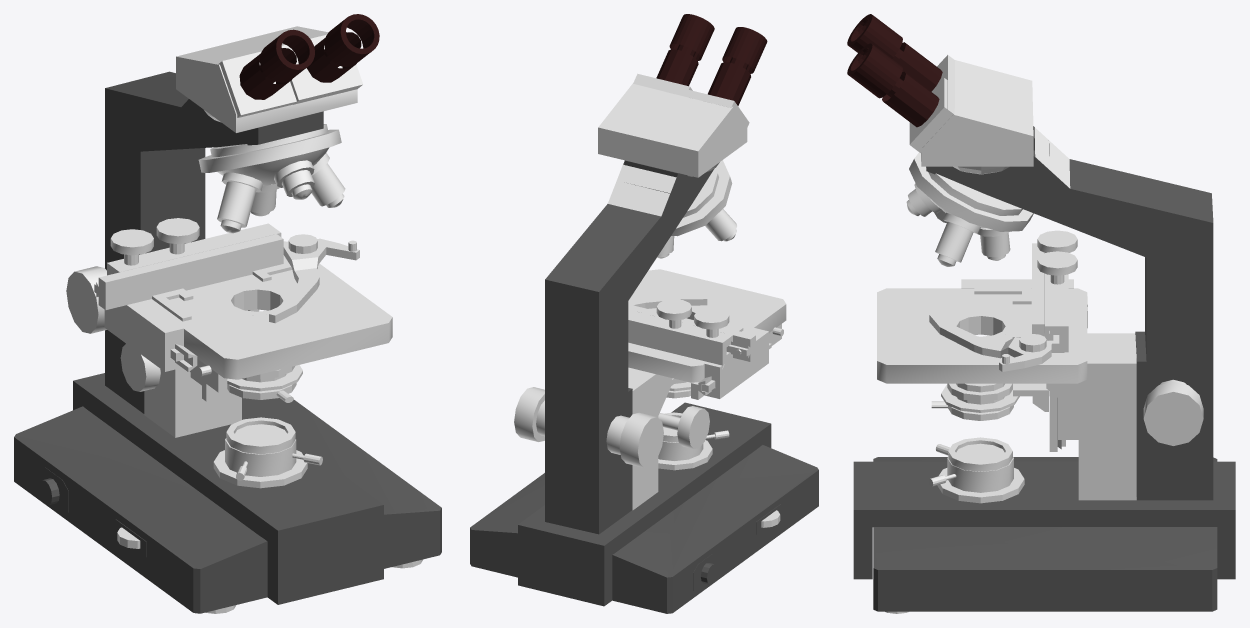
File: MICROSCOPIO.obj
3 renders of one model, left to right at view 1: azimuth 30°, elevation 25°; view 2: azimuth 150°, elevation 25°; view 3: azimuth 270°, elevation 25°, orthographic. The views are drawn at different scales.
Parts seen in each view (by area): view 1: Mesh54 mainbase1 skp77A2_1 MICROSCOPIO1 Model, Mesh55 mainbase1 skp77A2_1 MICROSCOPIO1 Model, Mesh53 lensbase1 skp77A2_1 MICROSCOPIO1 Model, Mesh78 slid_bse1 skp77A2_1 MICROSCOPIO1 Model, Mesh81 slidbs_01_1 skp77A2_1 MICROSCOPIO1 Model, Mesh52 lens_bse1 skp77A2_1 MICROSCOPIO1 Model, Mesh16 dia_bse_5_1 skp77A2_1 MICROSCOPIO1 Model, Mesh87 slidbs_8_1 skp77A2_1 MICROSCOPIO1 Model, Mesh86 slidbs_7_1 skp77A2_1 MICROSCOPIO1 Model, Mesh61 objectives1 skp77A2_1 MICROSCOPIO1 Model, Mesh80 slidbs_01_1 skp77A2_1 MICROSCOPIO1 Model, Mesh45 knobby_l06_1 skp77A2_1 MICROSCOPIO1 Model (+23 smaller); view 2: Mesh53 lensbase1 skp77A2_1 MICROSCOPIO1 Model, Mesh54 mainbase1 skp77A2_1 MICROSCOPIO1 Model, Mesh55 mainbase1 skp77A2_1 MICROSCOPIO1 Model, Mesh52 lens_bse1 skp77A2_1 MICROSCOPIO1 Model, Mesh78 slid_bse1 skp77A2_1 MICROSCOPIO1 Model, Mesh80 slidbs_01_1 skp77A2_1 MICROSCOPIO1 Model, Mesh16 dia_bse_5_1 skp77A2_1 MICROSCOPIO1 Model, Mesh45 knobby_l06_1 skp77A2_1 MICROSCOPIO1 Model, Mesh87 slidbs_8_1 skp77A2_1 MICROSCOPIO1 Model, Mesh88 MICROSCOPIO1 Model, Mesh61 objectives1 skp77A2_1 MICROSCOPIO1 Model, Mesh47 knobby_l07_1 skp77A2_1 MICROSCOPIO1 Model (+16 smaller); view 3: Mesh53 lensbase1 skp77A2_1 MICROSCOPIO1 Model, Mesh54 mainbase1 skp77A2_1 MICROSCOPIO1 Model, Mesh55 mainbase1 skp77A2_1 MICROSCOPIO1 Model, Mesh78 slid_bse1 skp77A2_1 MICROSCOPIO1 Model, Mesh16 dia_bse_5_1 skp77A2_1 MICROSCOPIO1 Model, Mesh52 lens_bse1 skp77A2_1 MICROSCOPIO1 Model, Mesh47 knobby_l07_1 skp77A2_1 MICROSCOPIO1 Model, Mesh61 objectives1 skp77A2_1 MICROSCOPIO1 Model, Mesh86 slidbs_7_1 skp77A2_1 MICROSCOPIO1 Model, Mesh30 eyepce03_1 skp77A2_1 MICROSCOPIO1 Model, Mesh80 slidbs_01_1 skp77A2_1 MICROSCOPIO1 Model, Mesh31 eyepce03_1 skp77A2_1 MICROSCOPIO1 Model (+24 smaller).
Boxes of the visible parts, <box> form: Mesh54 mainbase1 skp77A2_1 MICROSCOPIO1 Model: <box>14,398,441,613</box>; Mesh55 mainbase1 skp77A2_1 MICROSCOPIO1 Model: <box>73,373,383,604</box>; Mesh53 lensbase1 skp77A2_1 MICROSCOPIO1 Model: <box>105,71,323,413</box>; Mesh78 slid_bse1 skp77A2_1 MICROSCOPIO1 Model: <box>146,241,392,379</box>; Mesh81 slidbs_01_1 skp77A2_1 MICROSCOPIO1 Model: <box>94,234,283,310</box>; Mesh52 lens_bse1 skp77A2_1 MICROSCOPIO1 Model: <box>176,26,357,132</box>; Mesh16 dia_bse_5_1 skp77A2_1 MICROSCOPIO1 Model: <box>144,368,241,437</box>; Mesh87 slidbs_8_1 skp77A2_1 MICROSCOPIO1 Model: <box>104,300,183,371</box>; Mesh86 slidbs_7_1 skp77A2_1 MICROSCOPIO1 Model: <box>269,238,359,323</box>; Mesh61 objectives1 skp77A2_1 MICROSCOPIO1 Model: <box>198,129,341,172</box>; Mesh80 slidbs_01_1 skp77A2_1 MICROSCOPIO1 Model: <box>107,223,281,275</box>; Mesh45 knobby_l06_1 skp77A2_1 MICROSCOPIO1 Model: <box>66,266,106,333</box>; Mesh53 lensbase1 skp77A2_1 MICROSCOPIO1 Model: <box>545,160,715,534</box>; Mesh54 mainbase1 skp77A2_1 MICROSCOPIO1 Model: <box>470,445,818,613</box>; Mesh55 mainbase1 skp77A2_1 MICROSCOPIO1 Model: <box>518,402,771,606</box>; Mesh52 lens_bse1 skp77A2_1 MICROSCOPIO1 Model: <box>598,83,747,177</box>; Mesh78 slid_bse1 skp77A2_1 MICROSCOPIO1 Model: <box>628,269,786,382</box>; Mesh80 slidbs_01_1 skp77A2_1 MICROSCOPIO1 Model: <box>628,309,732,369</box>; Mesh16 dia_bse_5_1 skp77A2_1 MICROSCOPIO1 Model: <box>628,367,658,510</box>; Mesh45 knobby_l06_1 skp77A2_1 MICROSCOPIO1 Model: <box>619,412,663,467</box>; Mesh87 slidbs_8_1 skp77A2_1 MICROSCOPIO1 Model: <box>704,328,768,398</box>; Mesh88 MICROSCOPIO1 Model: <box>608,180,669,216</box>; Mesh61 objectives1 skp77A2_1 MICROSCOPIO1 Model: <box>671,160,732,236</box>; Mesh47 knobby_l07_1 skp77A2_1 MICROSCOPIO1 Model: <box>514,387,544,441</box>; Mesh53 lensbase1 skp77A2_1 MICROSCOPIO1 Model: <box>926,126,1213,500</box>; Mesh54 mainbase1 skp77A2_1 MICROSCOPIO1 Model: <box>873,457,1217,611</box>; Mesh55 mainbase1 skp77A2_1 MICROSCOPIO1 Model: <box>853,461,1235,579</box>; Mesh78 slid_bse1 skp77A2_1 MICROSCOPIO1 Model: <box>877,288,1087,383</box>; Mesh16 dia_bse_5_1 skp77A2_1 MICROSCOPIO1 Model: <box>1078,333,1136,500</box>; Mesh52 lens_bse1 skp77A2_1 MICROSCOPIO1 Model: <box>921,60,1033,166</box>; Mesh47 knobby_l07_1 skp77A2_1 MICROSCOPIO1 Model: <box>1143,381,1203,445</box>; Mesh61 objectives1 skp77A2_1 MICROSCOPIO1 Model: <box>909,152,1033,231</box>; Mesh86 slidbs_7_1 skp77A2_1 MICROSCOPIO1 Model: <box>929,313,1051,371</box>; Mesh30 eyepce03_1 skp77A2_1 MICROSCOPIO1 Model: <box>882,71,939,127</box>; Mesh80 slidbs_01_1 skp77A2_1 MICROSCOPIO1 Model: <box>1045,253,1068,352</box>; Mesh31 eyepce03_1 skp77A2_1 MICROSCOPIO1 Model: <box>851,45,902,98</box>.
Size of the model in its own units: 0.2775 by 0.5813 by 0.385.
